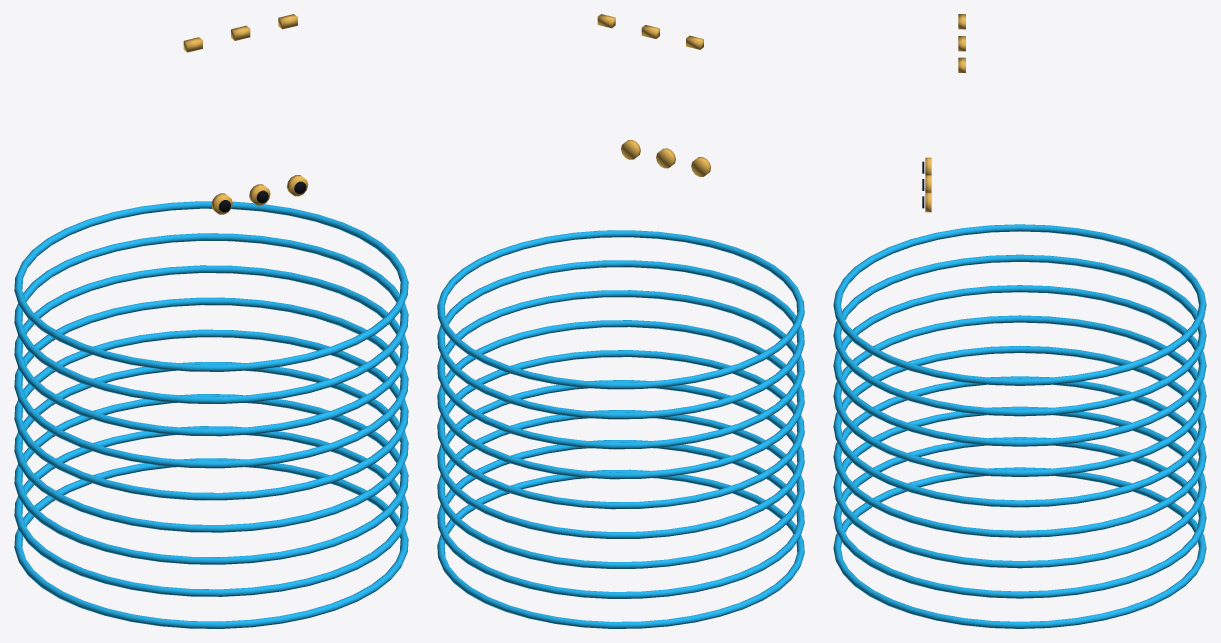
File: 33_L93_CTProjectionHologram.fbx
3 renders of one model, left to right at view 1: azimuth 30°, elevation 25°; view 2: azimuth 150°, elevation 25°; view 3: azimuth 270°, elevation 25°, orthographic. The views are drawn at different scales.
Visible parts, largest first — view 1: L92_CTProjectionHologram_Part_0000, L92_CTProjectionHologram_Part_0001; view 2: L92_CTProjectionHologram_Part_0000, L92_CTProjectionHologram_Part_0001; view 3: L92_CTProjectionHologram_Part_0000.
Boxes of the visible parts, box(x1,y1,x2,y2) form: L92_CTProjectionHologram_Part_0000: box(14, 201, 408, 628); L92_CTProjectionHologram_Part_0001: box(183, 14, 297, 52); L92_CTProjectionHologram_Part_0000: box(437, 230, 804, 628); L92_CTProjectionHologram_Part_0001: box(597, 14, 703, 49); L92_CTProjectionHologram_Part_0000: box(833, 224, 1206, 628).
Size of the model in its own units: 245 by 371 by 245.
